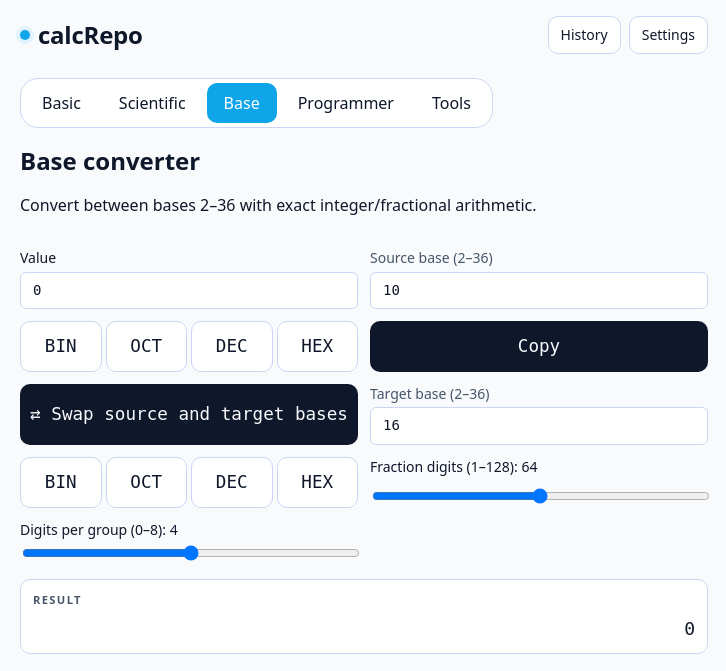
it: BaseView › converts 255 from decimal to hex
Click the tab "Base" at [242, 103], box [207, 83, 277, 123]
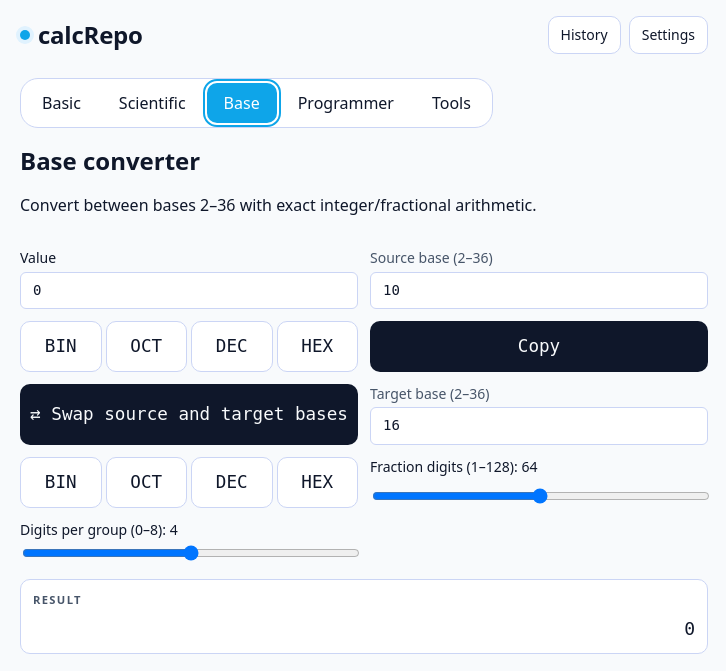
Replace the text in the field with test id "base-input" with "255" at [189, 290], box [20, 272, 358, 309]
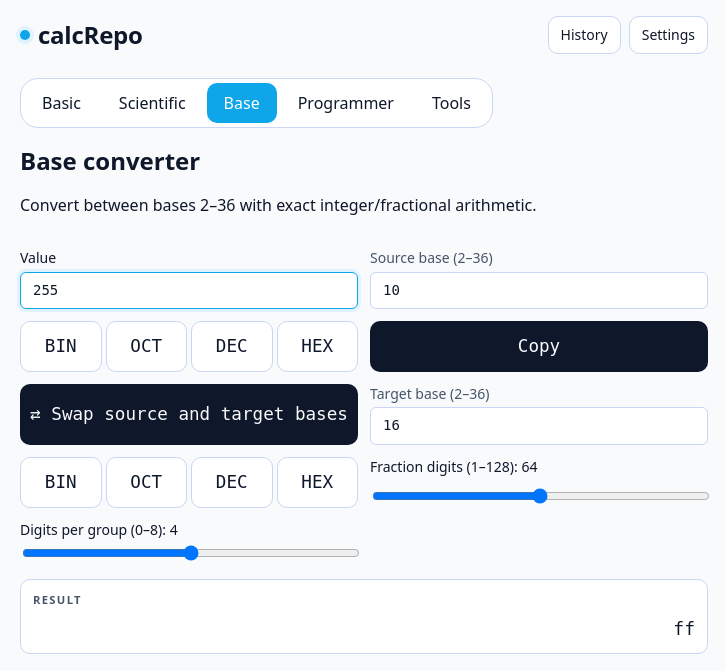
Now the element with test id "base-output" shows "ff", box [673, 618, 695, 639]
